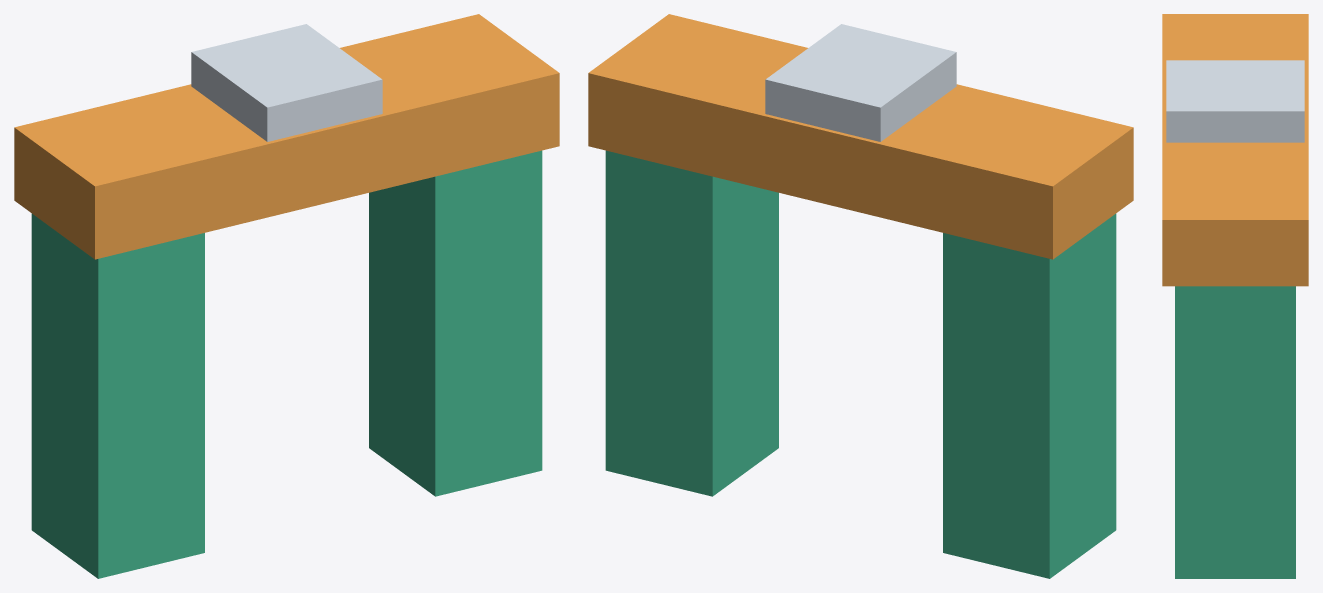
File: arch.glb
3 views of the same model, side by side, from view 1: azimuth 30°, elevation 25°; view 2: azimuth 150°, elevation 25°; view 3: azimuth 270°, elevation 25° (orthographic). The views are drawn at different scales.
Visible parts, largest first — view 1: Verga, Pilar esquerdo, Pilar direito, Ornamento; view 2: Verga, Pilar esquerdo, Pilar direito, Ornamento; view 3: Pilar direito, Verga, Ornamento.
Part boxes in pixels (x1=…): Verga: x1=14, y1=14, x2=559, y2=259; Pilar esquerdo: x1=31, y1=213, x2=204, y2=578; Pilar direito: x1=369, y1=150, x2=542, y2=496; Ornamento: x1=191, y1=24, x2=382, y2=141; Verga: x1=588, y1=14, x2=1133, y2=259; Pilar esquerdo: x1=943, y1=213, x2=1116, y2=578; Pilar direito: x1=605, y1=150, x2=778, y2=496; Ornamento: x1=765, y1=24, x2=956, y2=141; Pilar direito: x1=1175, y1=286, x2=1295, y2=578; Verga: x1=1162, y1=14, x2=1308, y2=286; Ornamento: x1=1166, y1=60, x2=1304, y2=142.
Size of the model in its own units: 2.26 by 2.02 by 0.68.
